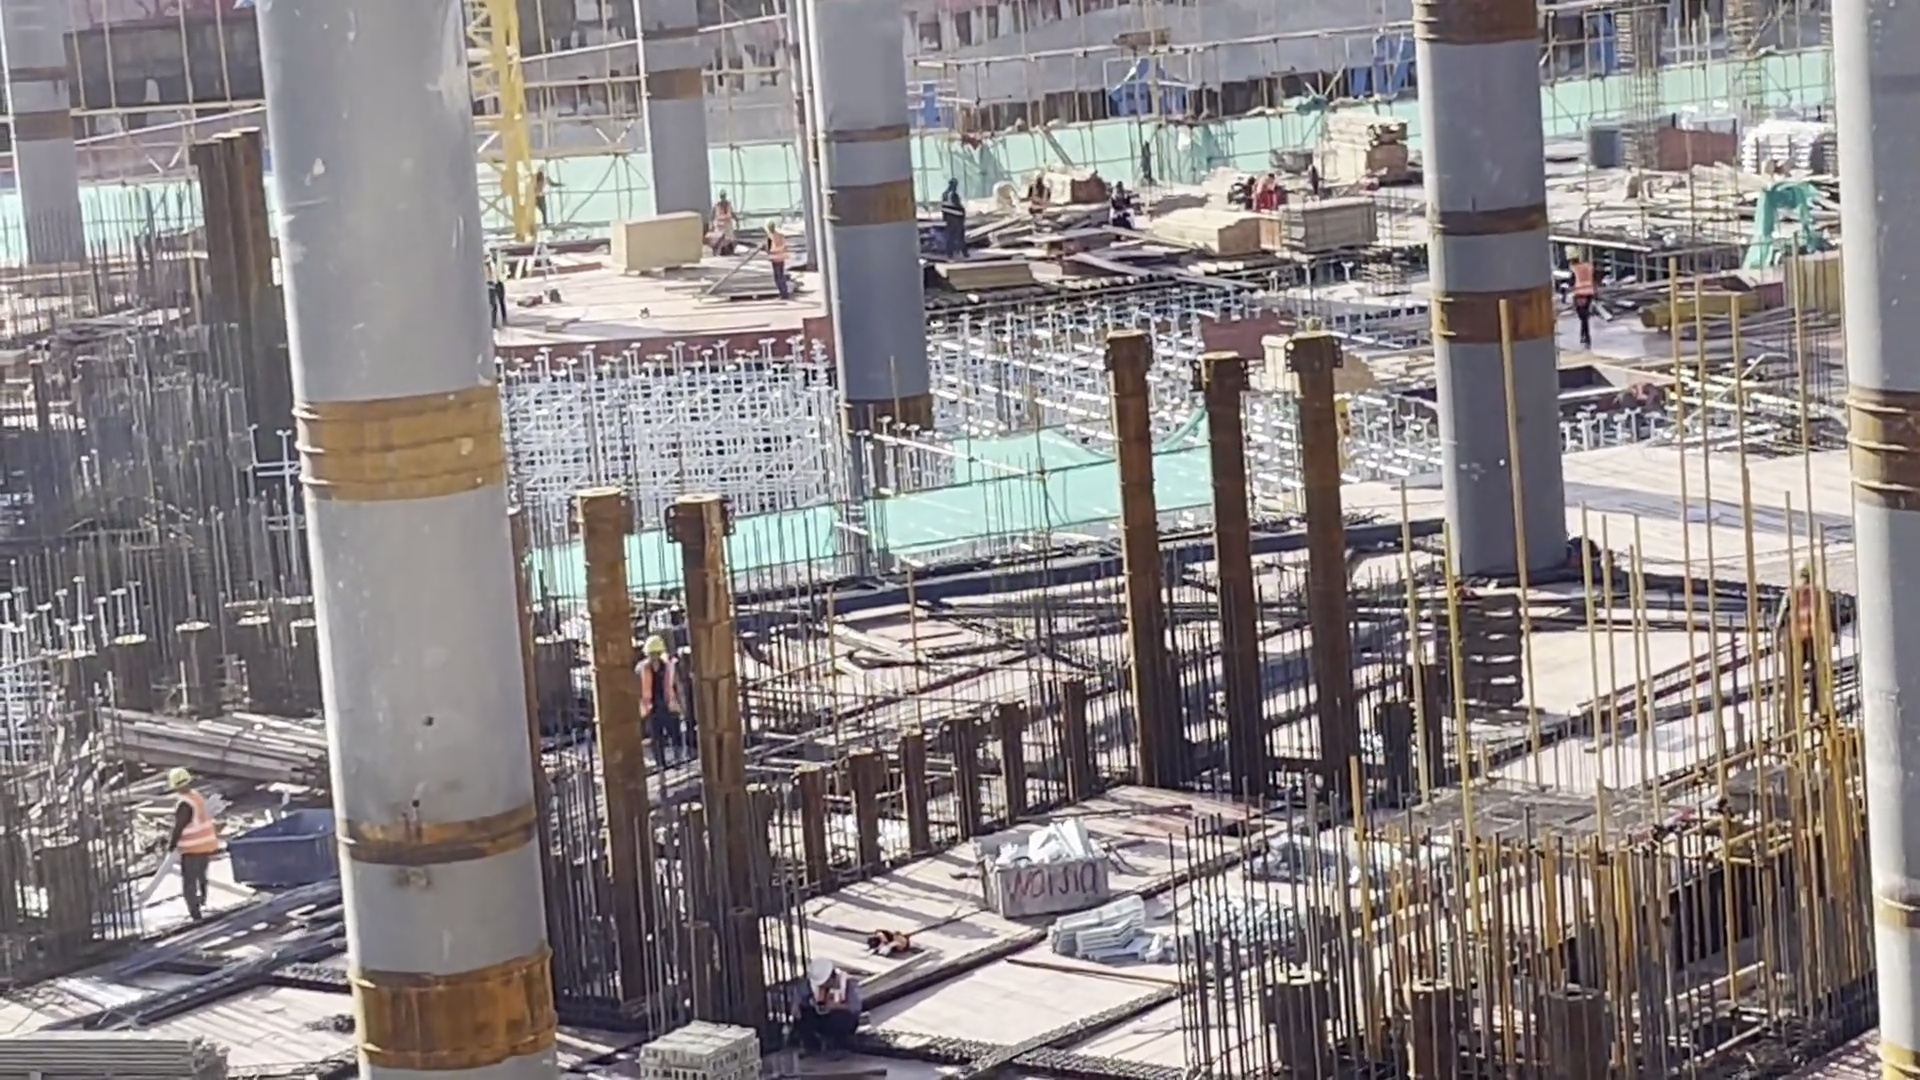helmet: (802, 945, 839, 982), (634, 629, 665, 663), (1786, 546, 1815, 582), (168, 764, 197, 793), (531, 159, 550, 185), (1565, 238, 1581, 263), (481, 234, 498, 249), (946, 174, 963, 189), (716, 183, 731, 197)
person: (147, 760, 232, 931), (1761, 542, 1834, 705), (765, 955, 876, 1059), (629, 628, 695, 753), (1554, 254, 1617, 357), (755, 202, 800, 308), (469, 227, 512, 335), (933, 176, 977, 267), (519, 153, 565, 233), (1229, 170, 1293, 216), (1092, 171, 1141, 232), (701, 182, 744, 252), (1018, 158, 1058, 219)
vest: (160, 804, 229, 857), (637, 660, 689, 722), (1790, 590, 1820, 641), (937, 193, 968, 235), (476, 250, 504, 285), (1568, 268, 1590, 300), (768, 234, 792, 261), (718, 212, 735, 234), (529, 175, 545, 196)
